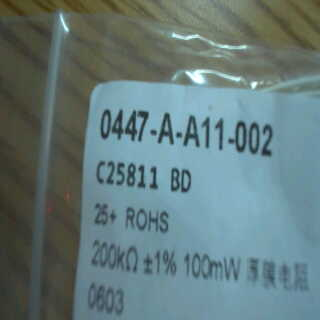200kR: (84, 240, 140, 280)
